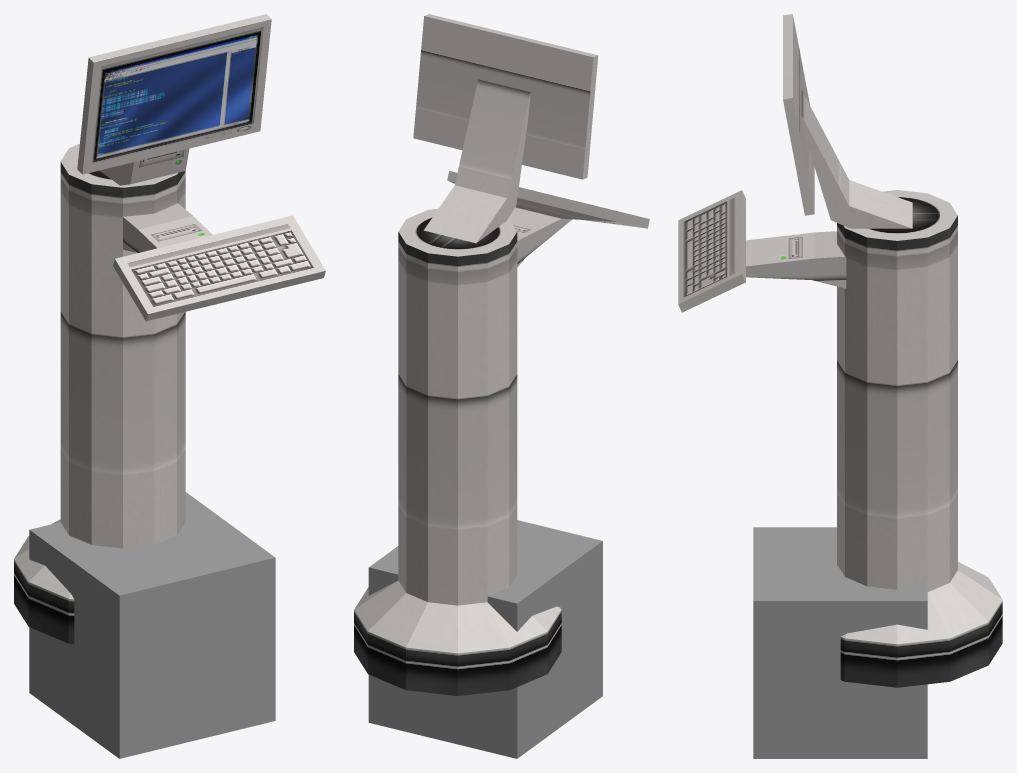
3 views of the same model, side by side, from view 1: azimuth 30°, elevation 25°; view 2: azimuth 150°, elevation 25°; view 3: azimuth 270°, elevation 25° (orthographic). The views are drawn at different scales.
Visible parts, largest first — view 1: comp, Cube, screen; view 2: comp, Cube; view 3: comp, Cube.
Part boxes in pixels (x1,y1,x2,y2): comp: [14, 14, 325, 644]; Cube: [29, 492, 275, 758]; screen: [95, 33, 258, 160]; comp: [354, 14, 649, 695]; Cube: [368, 520, 602, 758]; comp: [678, 14, 1002, 687]; Cube: [753, 527, 927, 758].
Bounding box in the file's own units: 2.42 × 8.44 × 3.73.
Materials: 2 (1 with a texture image).
